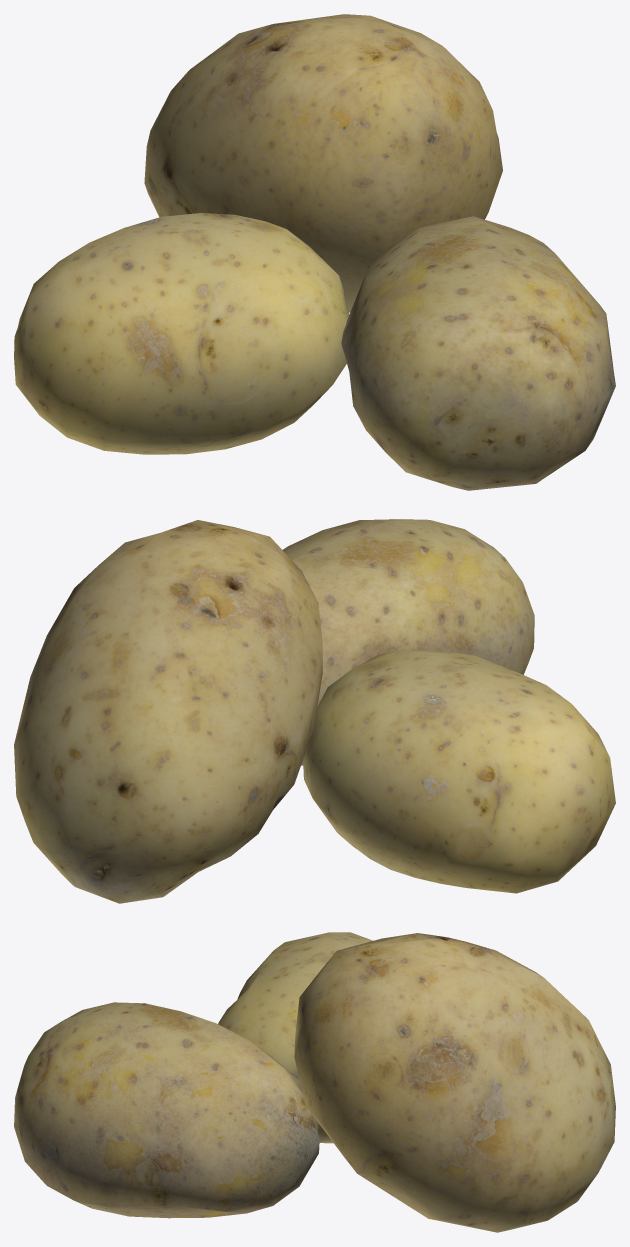
The model's file is potatoes.glb.
The picture shows the model from 3 angles, top to bottom: view 1: azimuth 30°, elevation 25°; view 2: azimuth 150°, elevation 25°; view 3: azimuth 270°, elevation 25°; orthographic projection. The views are drawn at different scales.
Parts seen in each view (by area): view 1: potatoe02, potatoe01, potatoe03; view 2: potatoe02, potatoe01, potatoe03; view 3: potatoe02, potatoe03, potatoe01.
Part boxes in pixels (left/top/right/bottom): potatoe02: left=144, top=14, right=502, bottom=312; potatoe01: left=14, top=213, right=349, bottom=454; potatoe03: left=341, top=216, right=615, bottom=490; potatoe02: left=14, top=520, right=322, bottom=903; potatoe01: left=303, top=649, right=615, bottom=893; potatoe03: left=283, top=519, right=534, bottom=765; potatoe02: left=294, top=933, right=615, bottom=1232; potatoe03: left=14, top=1002, right=319, bottom=1218; potatoe01: left=218, top=932, right=372, bottom=1143.
Bounding box in the file's own units: 18.93 × 11.25 × 22.9.
1 material, 1 textured.
